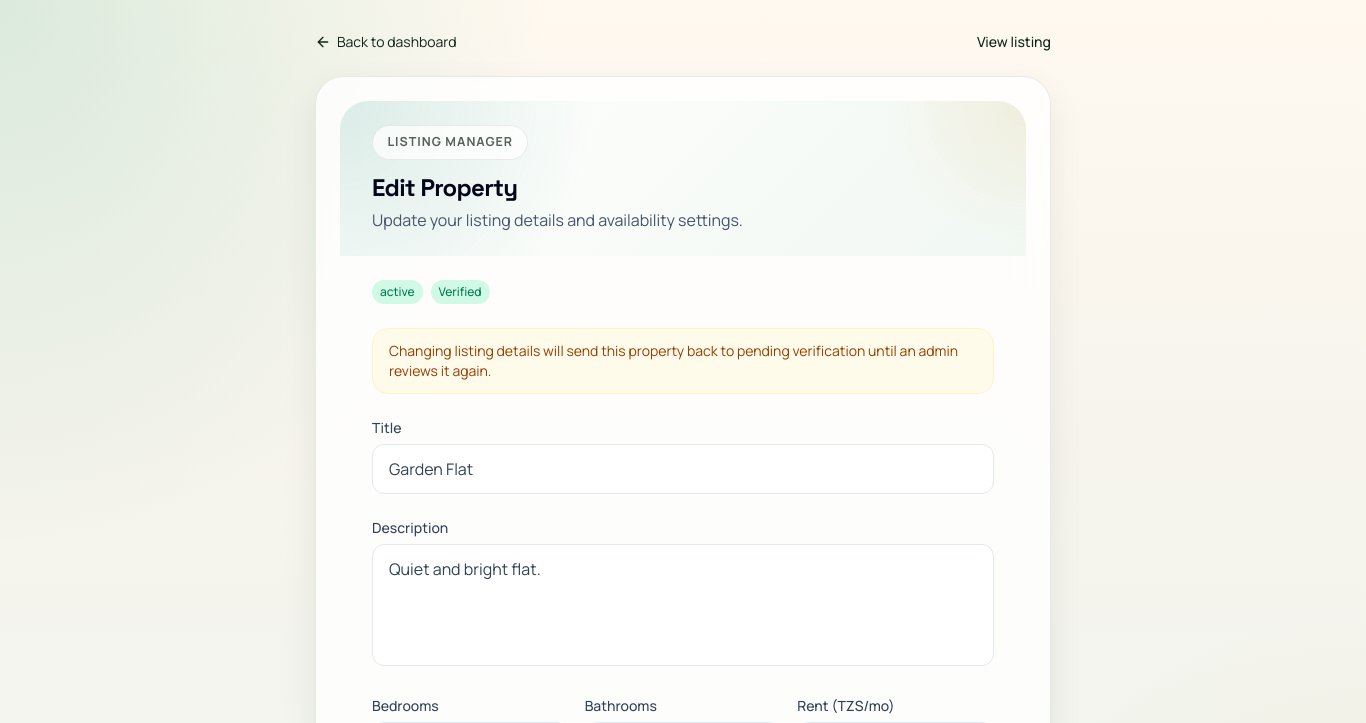
EditProperty landlord flow › submits edits successfully and surfaces the pending verification reset state
Replace the text in the field showing "Garden Flat" with "Updated Garden Flat" at (683, 469), box [372,444,994,494]
(page scrolled)
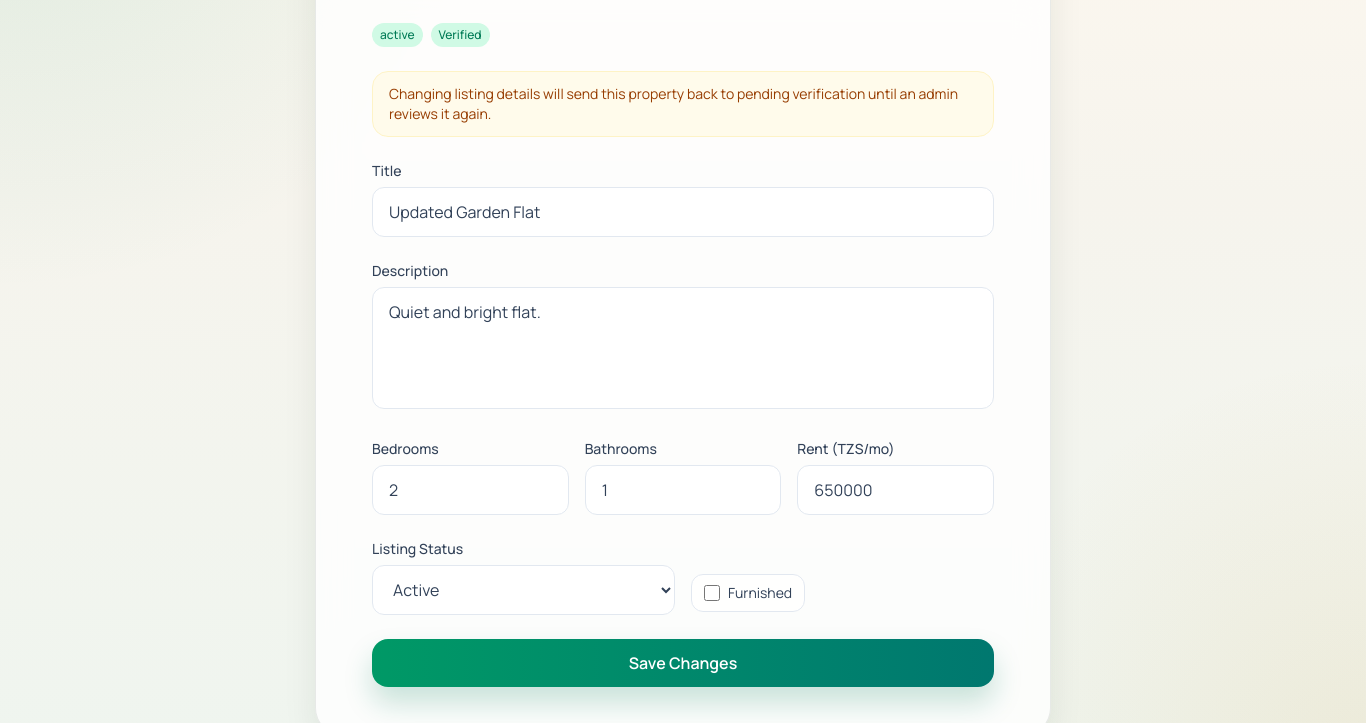
Replace the text in the number field showing "650000" below "Rent (TZS/mo)" with "700000" at (896, 490), box [797,465,994,515]
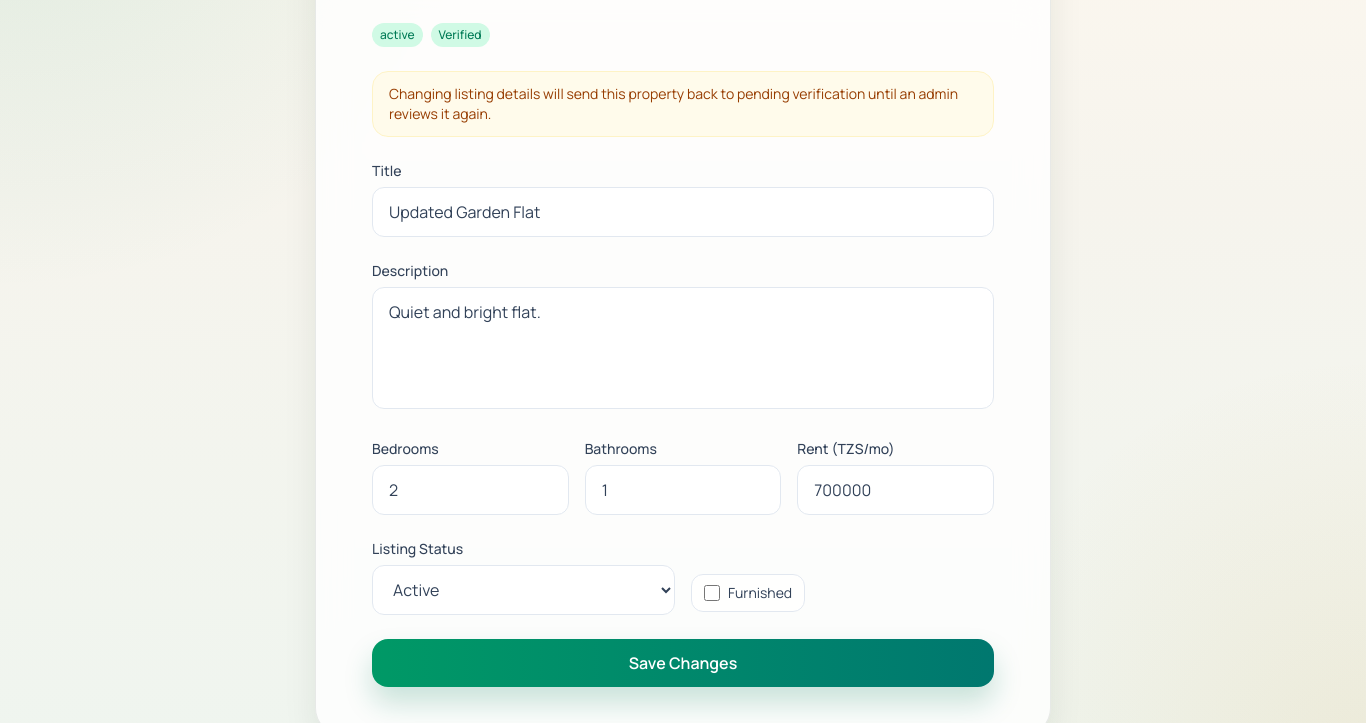
Click the button "Save Changes" at (683, 663), box [372,639,994,687]
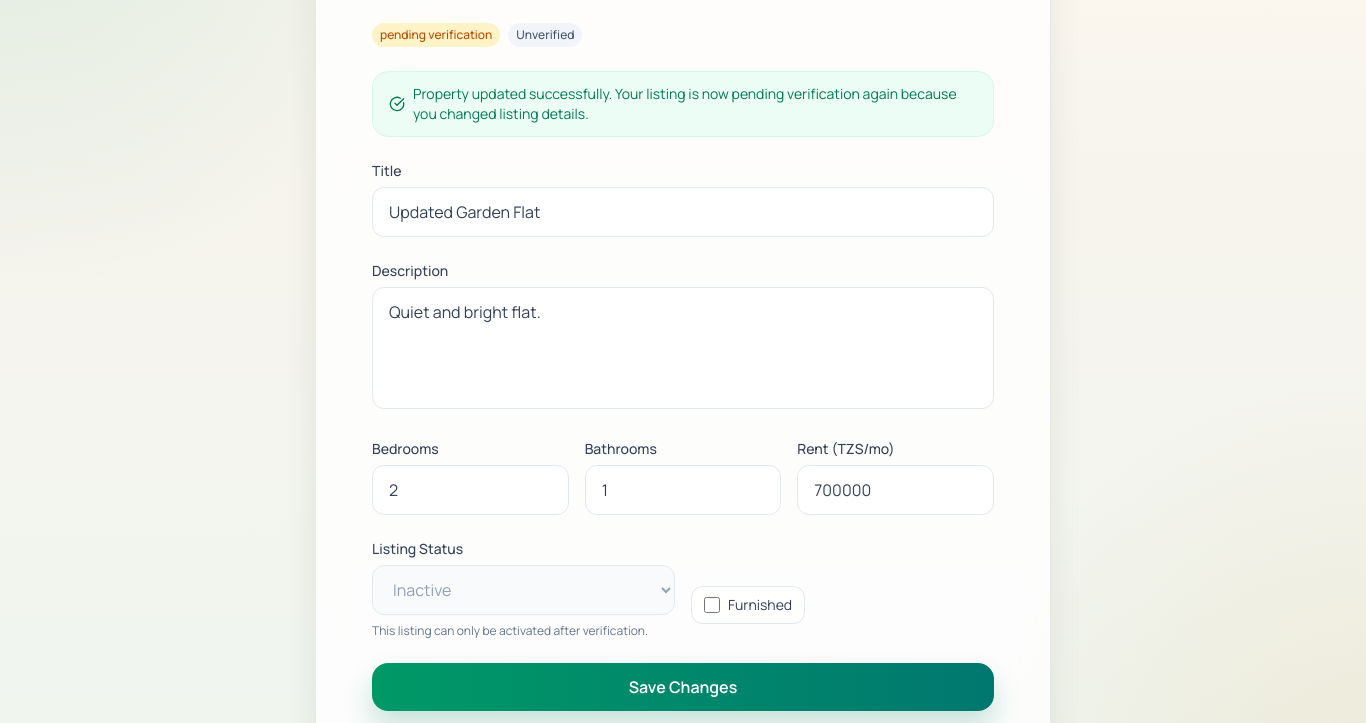
Check: the text "Property updated successfully. Your listing is now pending verification again because you changed listing details." is shown, box [413,84,957,123]
Check: the text "pending verification" is shown, box [372,23,500,47]
Check: the text "Unverified" is shown, box [508,23,582,47]
